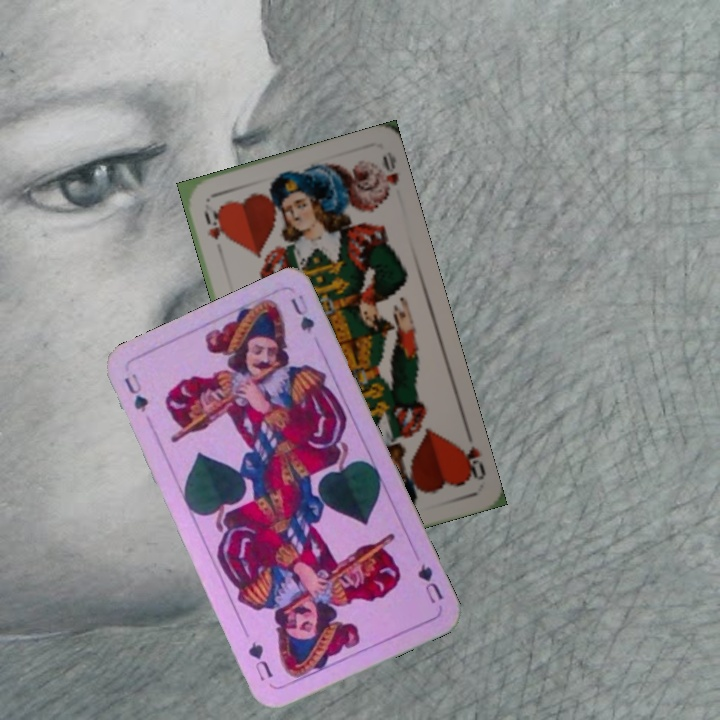GU: (413, 559, 446, 607), (120, 369, 151, 415)
HO: (452, 438, 489, 484), (200, 205, 227, 243)
